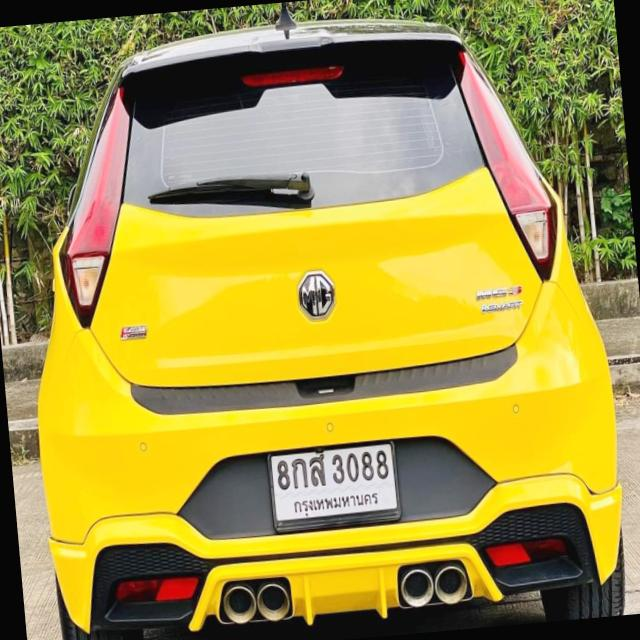license_plate: (264, 438, 404, 534)
